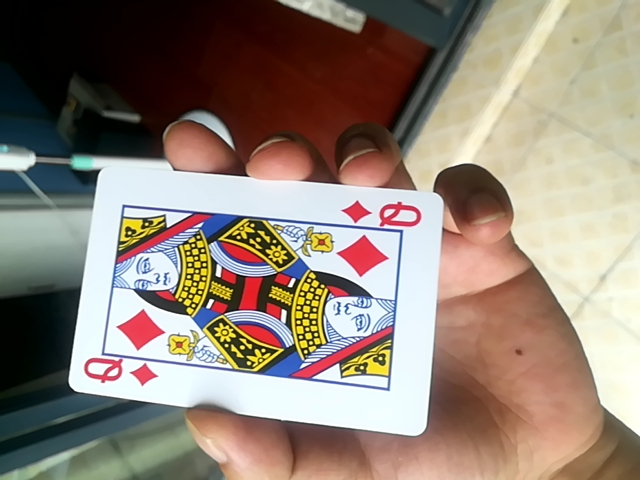fk q: (71, 155, 451, 436)
